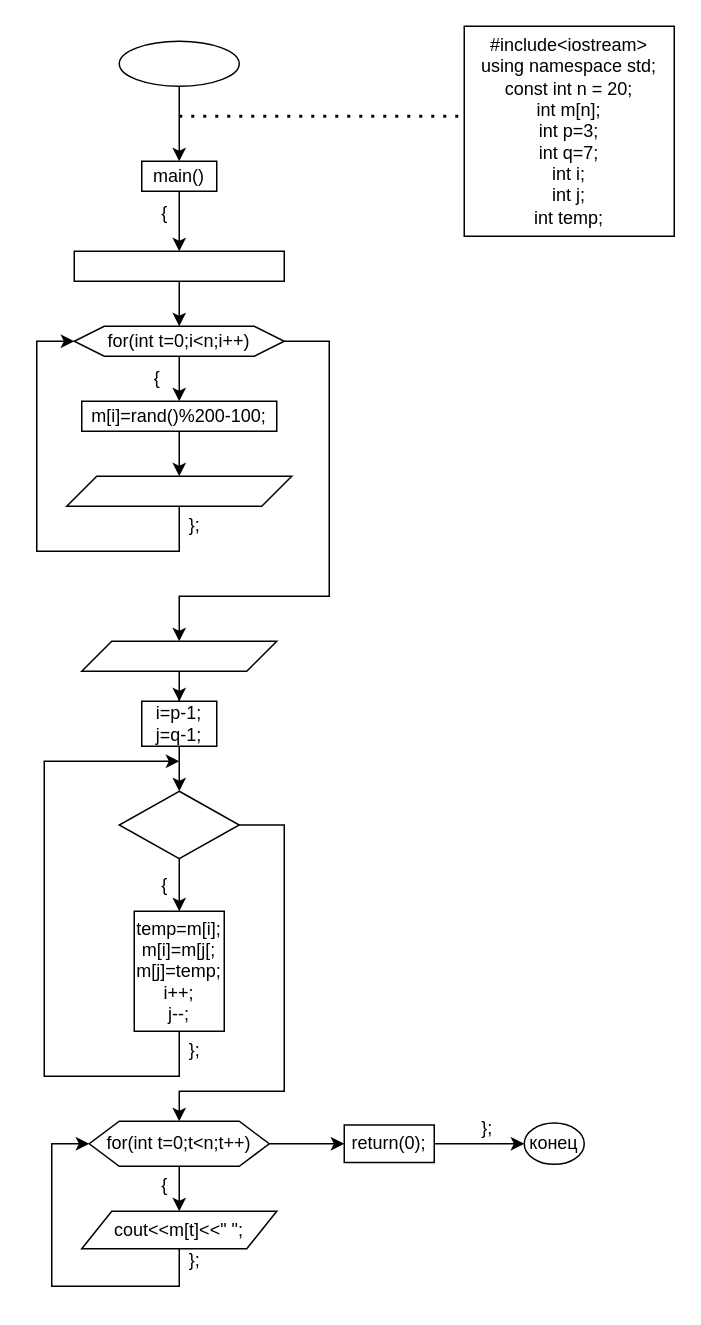
The diagram is 701 pixels wide and 1325 high, and some of its shapes have lost their labels. The shapes that lost their labels are listed below. From the top down, each one's centre as x and y in pixels, then its label:
point 178,63: Начало
point 178,265: setlocale(LC_ALL,"Rus");
point 178,490: cout<<m[i]<<" ";
point 178,655: cout<<endl;
point 178,824: while(i<j)
